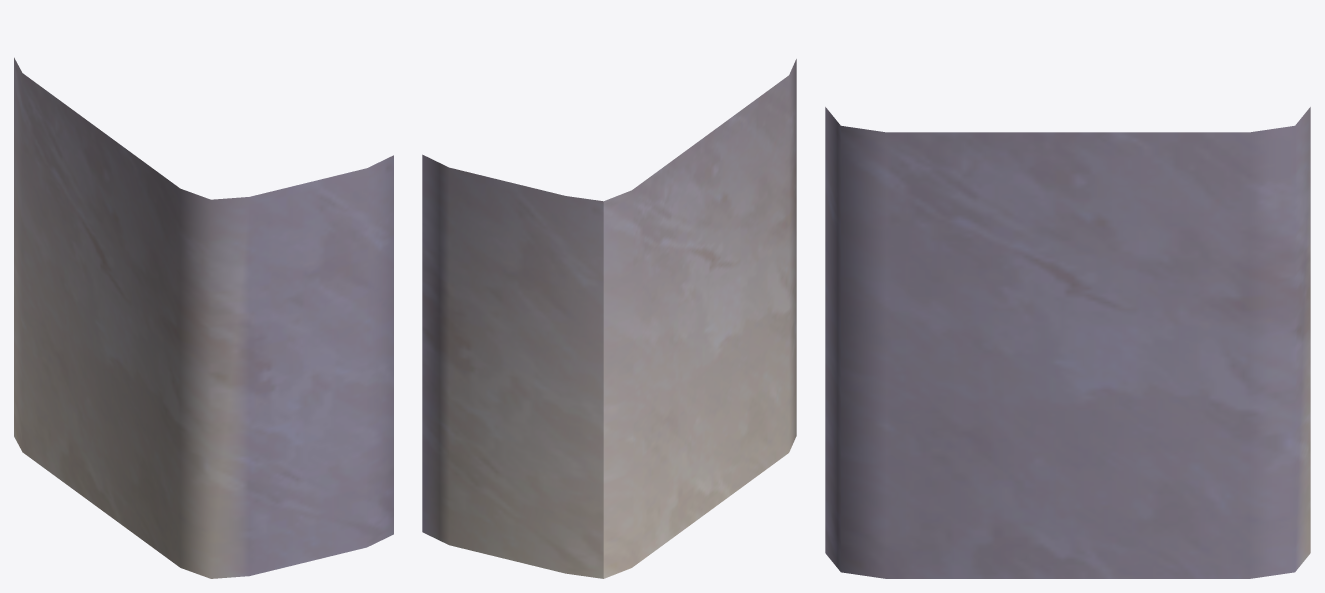
3 renders of one model, left to right at view 1: azimuth 30°, elevation 25°; view 2: azimuth 150°, elevation 25°; view 3: azimuth 270°, elevation 25°, orthographic. The views are drawn at different scales.
Visible parts, largest first — view 1: Joint_0_Object_0; view 2: Joint_0_Object_0; view 3: Joint_0_Object_0.
Boxes of the visible parts, bbox=[...] form: Joint_0_Object_0: bbox=[14, 57, 393, 578]; Joint_0_Object_0: bbox=[422, 59, 796, 578]; Joint_0_Object_0: bbox=[825, 107, 1310, 578].
Bounding box in the file's own units: 206 × 363 × 357.
Materials: 1 (1 with a texture image).
